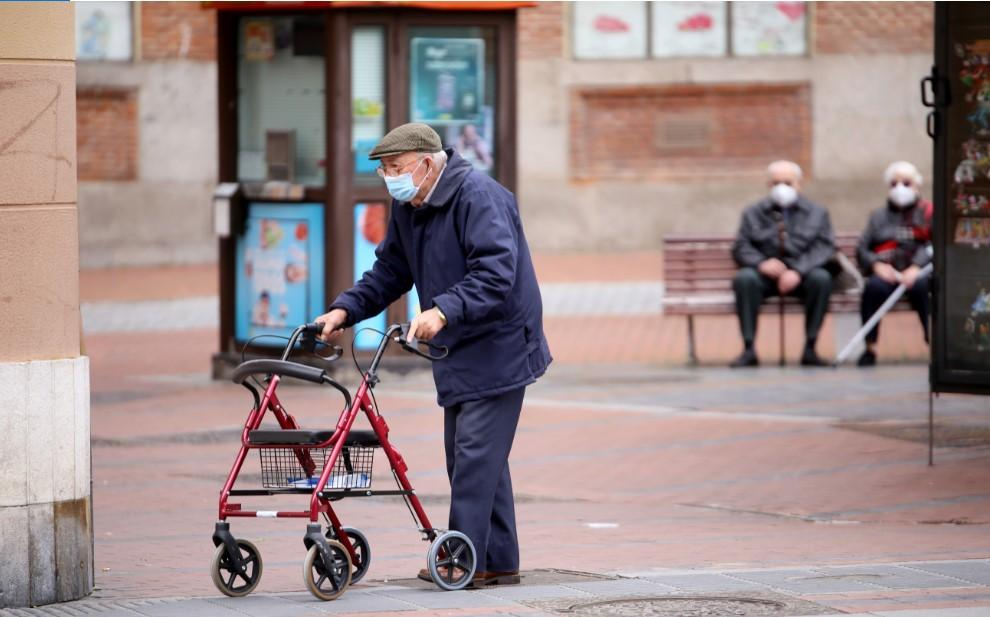walking_frame: (209, 122, 553, 600)
